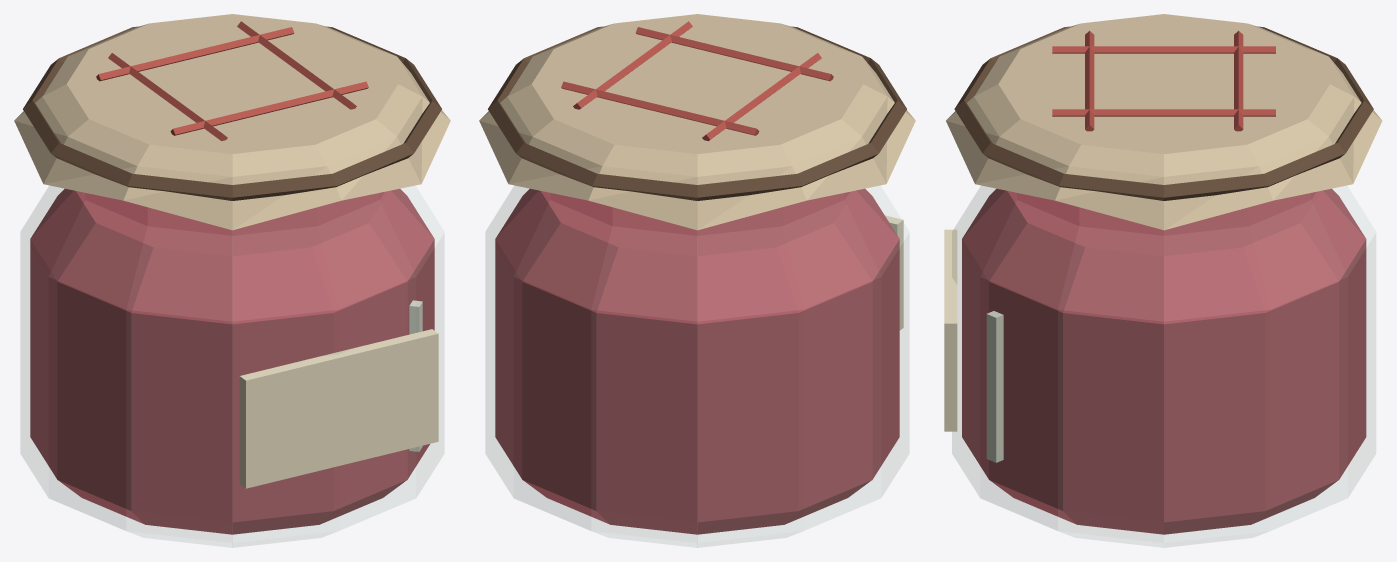
The model's file is jam.glb.
The picture shows the model from 3 angles, left to right: view 1: azimuth 30°, elevation 25°; view 2: azimuth 150°, elevation 25°; view 3: azimuth 270°, elevation 25°; orthographic projection.
Parts seen in each view (by area): view 1: geometry, glass; view 2: geometry, glass; view 3: geometry, glass.
Part boxes in pixels (x1,y1,x2,y2): geometry: [14, 14, 450, 534]; glass: [20, 186, 444, 547]; geometry: [479, 14, 915, 534]; glass: [485, 186, 909, 547]; geometry: [944, 14, 1382, 534]; glass: [952, 186, 1375, 547].
Bounding box in the file's own units: 0.4104 × 0.4095 × 0.4117.
